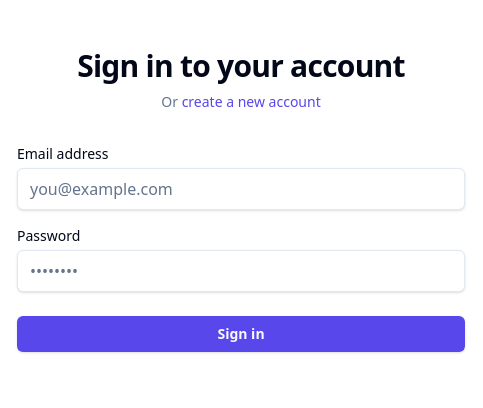
Test: LoginPage › error handling › should display error message on network error
Type "test@example.com" into the field labelled "Email address" at (241, 189), box [17,168,465,210]
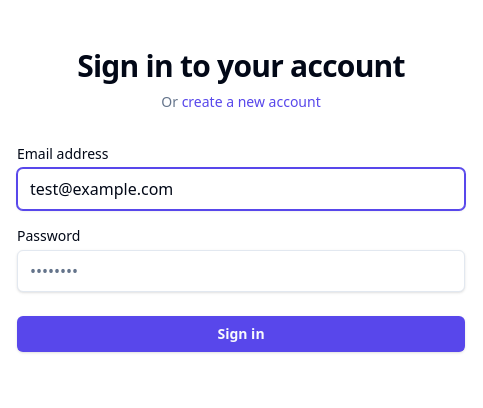
Type "password123" into the password field labelled "Password" at (241, 271), box [17,250,465,292]
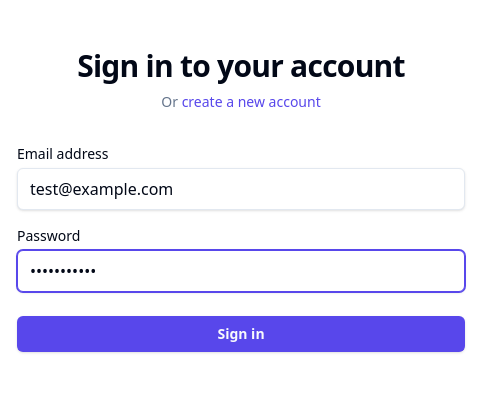
Click the button "Sign in" at (241, 334), box [17,316,465,352]
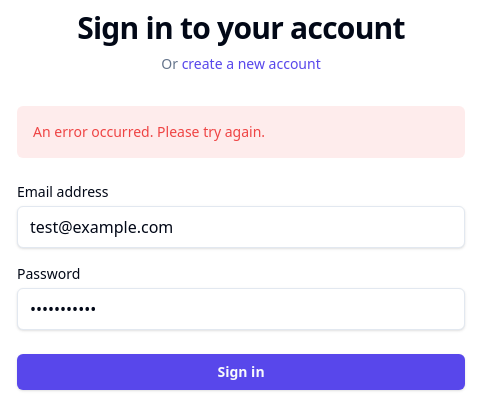
Now the text "An error occurred. Please try again." is shown, box [17,106,465,158]
